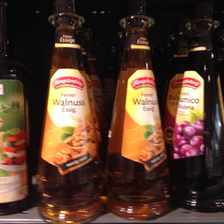vinegar: (109, 13, 174, 222), (40, 3, 99, 224), (169, 27, 224, 213), (1, 35, 36, 216)
